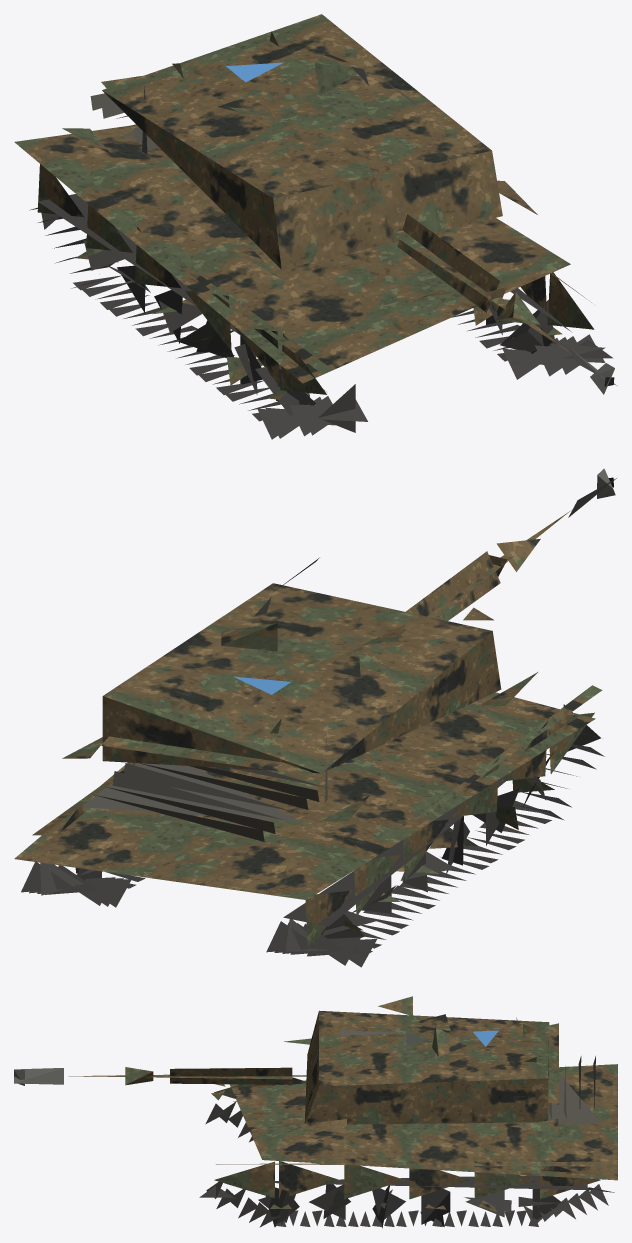
The model's file is mbt_e4_fr_leclerc_LOD2.glb.
3 views of the same model, one above another, from view 1: azimuth 30°, elevation 25°; view 2: azimuth 150°, elevation 25°; view 3: azimuth 270°, elevation 25° (orthographic). The views are drawn at different scales.
Parts seen in each view (by area): view 1: mbt_e4_fr_leclerc_LOD2_body, mbt_e4_fr_leclerc_LOD2_track, mbt_e4_fr_leclerc_LOD2_gun, mbt_e4_fr_leclerc_LOD2_deck; view 2: mbt_e4_fr_leclerc_LOD2_body, mbt_e4_fr_leclerc_LOD2_track, mbt_e4_fr_leclerc_LOD2_deck, mbt_e4_fr_leclerc_LOD2_gun; view 3: mbt_e4_fr_leclerc_LOD2_body, mbt_e4_fr_leclerc_LOD2_track, mbt_e4_fr_leclerc_LOD2_deck, mbt_e4_fr_leclerc_LOD2_gun.
Boxes of the visible parts, bbox=[...] form: mbt_e4_fr_leclerc_LOD2_body: bbox=[14, 14, 594, 399]; mbt_e4_fr_leclerc_LOD2_track: bbox=[29, 194, 612, 439]; mbt_e4_fr_leclerc_LOD2_gun: bbox=[142, 66, 616, 394]; mbt_e4_fr_leclerc_LOD2_deck: bbox=[90, 93, 161, 150]; mbt_e4_fr_leclerc_LOD2_body: bbox=[14, 510, 602, 951]; mbt_e4_fr_leclerc_LOD2_track: bbox=[21, 704, 604, 967]; mbt_e4_fr_leclerc_LOD2_deck: bbox=[81, 763, 324, 841]; mbt_e4_fr_leclerc_LOD2_gun: bbox=[129, 468, 616, 802]; mbt_e4_fr_leclerc_LOD2_body: bbox=[69, 996, 617, 1215]; mbt_e4_fr_leclerc_LOD2_track: bbox=[199, 1101, 614, 1228]; mbt_e4_fr_leclerc_LOD2_deck: bbox=[521, 1056, 602, 1123]; mbt_e4_fr_leclerc_LOD2_gun: bbox=[14, 1017, 517, 1085].
Bounding box in the file's own units: 3.71 × 3.07 × 9.87.
Materials: 7 (1 with a texture image).
